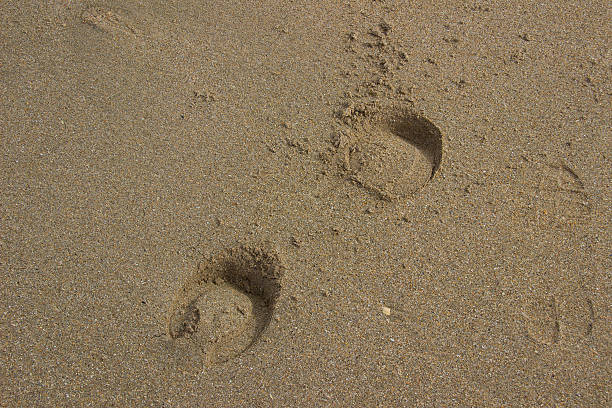animal_footprint: (168, 246, 283, 363), (327, 103, 441, 200), (513, 156, 590, 228), (522, 293, 594, 344), (82, 7, 141, 36)
